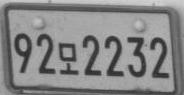2: (149, 36, 170, 78), (36, 32, 56, 74), (81, 34, 101, 76), (104, 34, 124, 76)
3: (126, 36, 147, 77)
9: (13, 32, 32, 73)
모: (58, 42, 79, 75)
